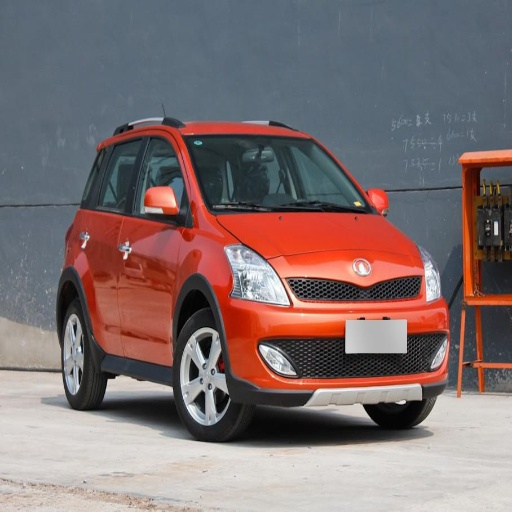front_bumper: (227, 275, 448, 407)
front_right_door: (118, 132, 190, 361)
front_right_light: (225, 244, 290, 307)
hood: (217, 215, 423, 287)
